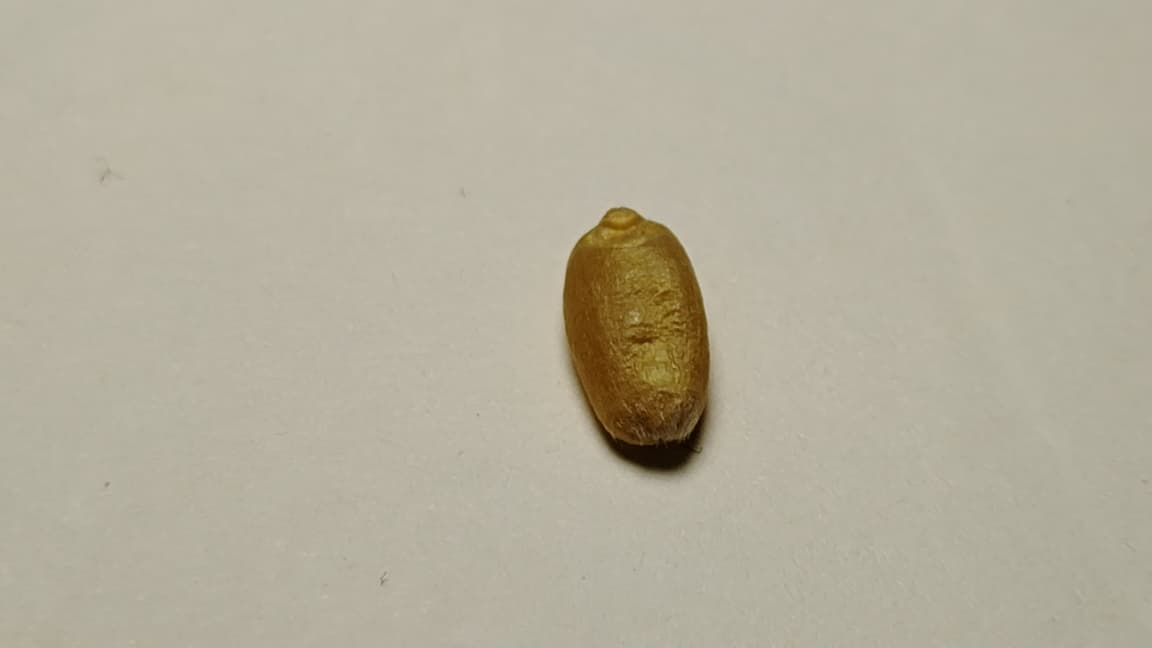healthy: (562, 207, 709, 447)
